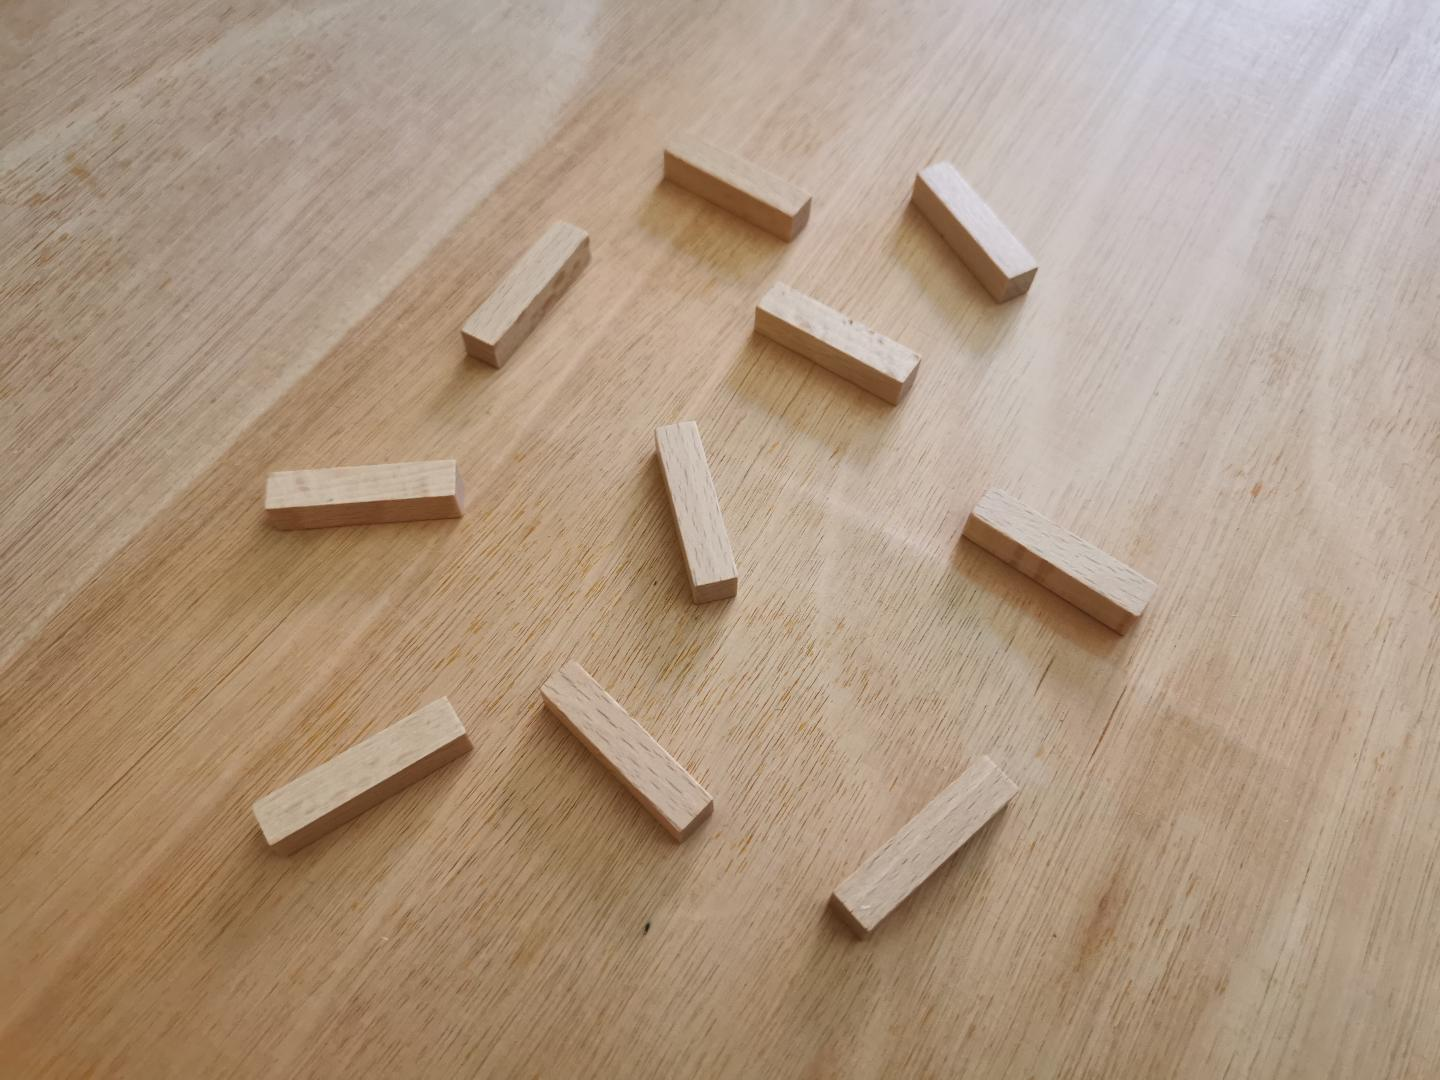jenga: (253, 698, 473, 855), (830, 757, 1018, 937), (543, 661, 714, 841), (962, 489, 1155, 633), (754, 281, 920, 405), (461, 222, 587, 369), (912, 163, 1037, 304), (663, 133, 813, 242), (655, 422, 737, 602), (264, 458, 464, 529)
